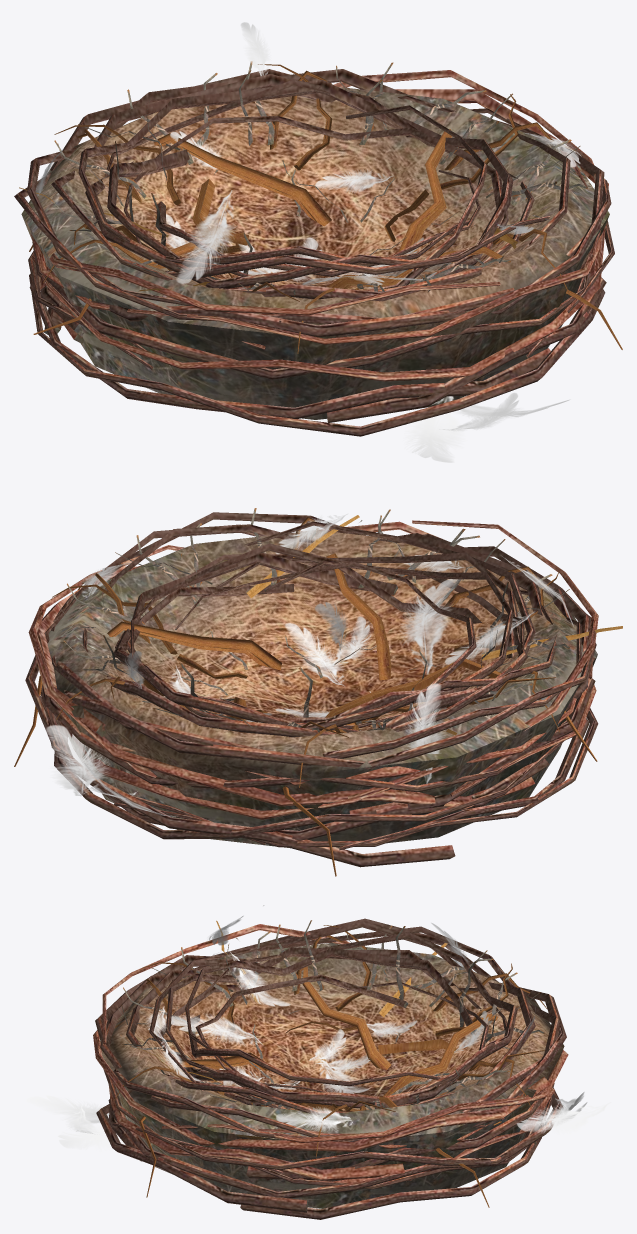
The model's file is realnest.glb.
3 renders of one model, top to bottom at view 1: azimuth 30°, elevation 25°; view 2: azimuth 150°, elevation 25°; view 3: azimuth 270°, elevation 25°, orthographic. The views are drawn at different scales.
Parts seen in each view (by area): view 1: Sphere001_Gnezdo_V2_0, Sphere001_Peria_0; view 2: Sphere001_Gnezdo_V2_0, Sphere001_Peria_0; view 3: Sphere001_Gnezdo_V2_0, Sphere001_Peria_0.
Boxes of the visible parts, x1=… form: Sphere001_Gnezdo_V2_0: x1=14, y1=61, x2=622, y2=436; Sphere001_Peria_0: x1=31, y1=22, x2=570, y2=462; Sphere001_Gnezdo_V2_0: x1=14, y1=508, x2=622, y2=876; Sphere001_Peria_0: x1=46, y1=514, x2=580, y2=817; Sphere001_Gnezdo_V2_0: x1=93, y1=918, x2=568, y2=1219; Sphere001_Peria_0: x1=26, y1=905, x2=611, y2=1151.
Size of the model in its own units: 0.3566 by 0.16 by 0.4288.
2 materials, 2 textured.
